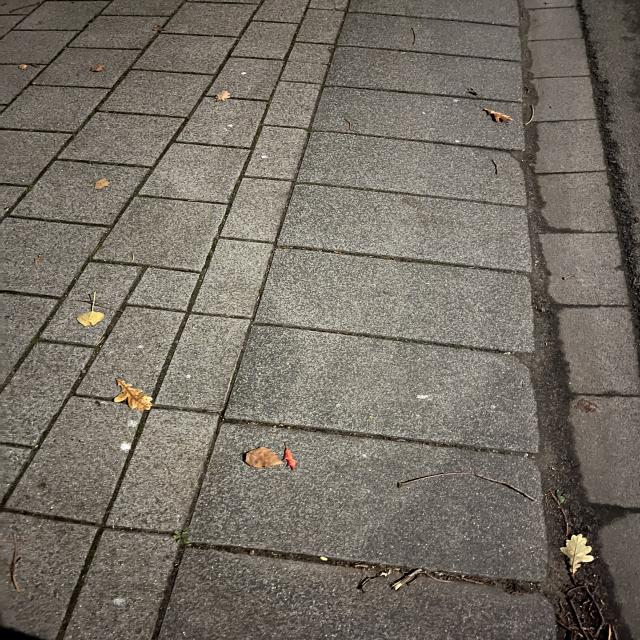leaves: (242, 437, 307, 481)
pavement: (179, 168, 640, 388), (9, 468, 544, 640), (0, 4, 640, 78), (303, 400, 640, 474), (0, 199, 247, 293), (0, 418, 224, 482), (0, 85, 201, 154)
